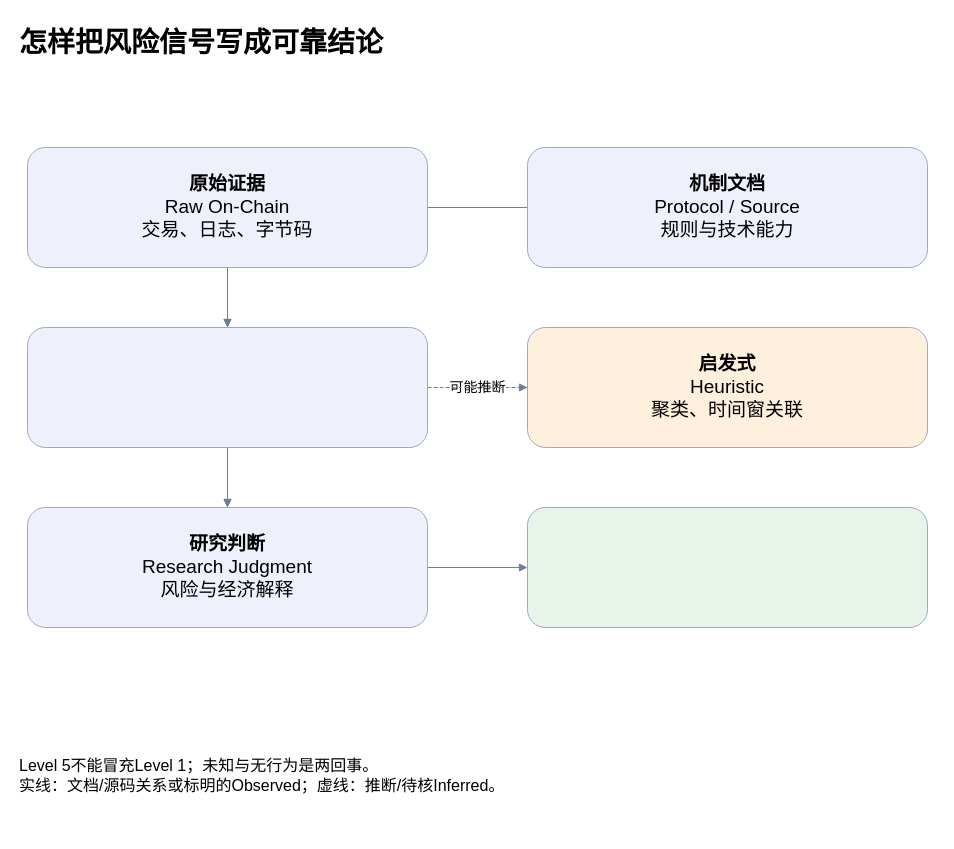
This 954x849 diagram has some shape labels left out. Each missing label, with the box of its shape:
索引与计算 Indexed / Derived SQL、价格、快照: (26, 326, 428, 448)
结论边界 Claims / Missing Evidence 不替代法律认定: (526, 506, 928, 628)
